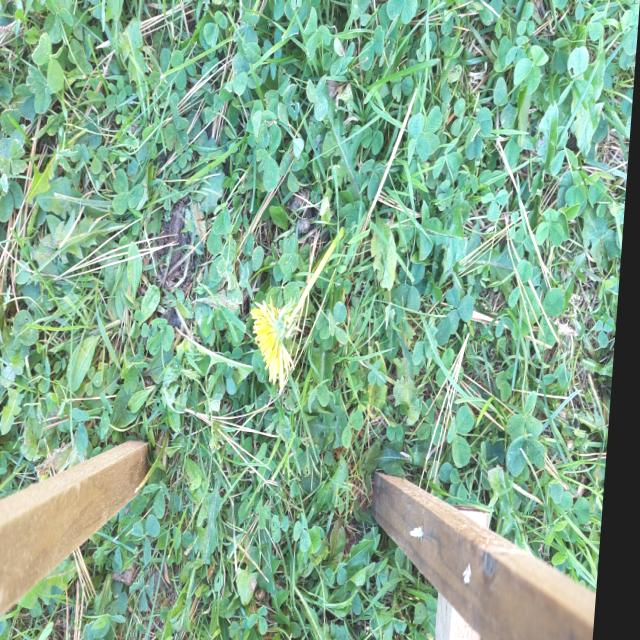base: (334, 212, 358, 252)
